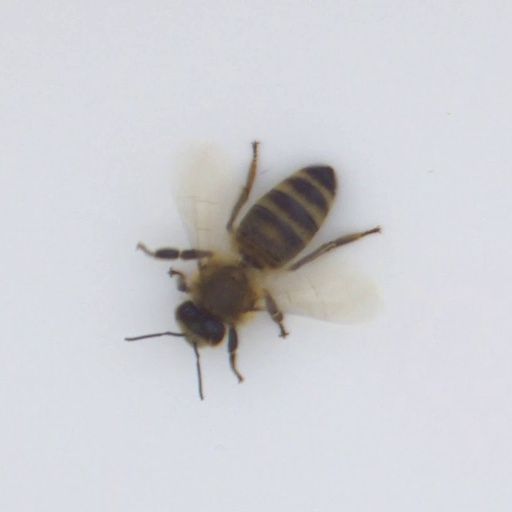Bee: (154, 142, 367, 371)
Thorax: (182, 260, 261, 321)
